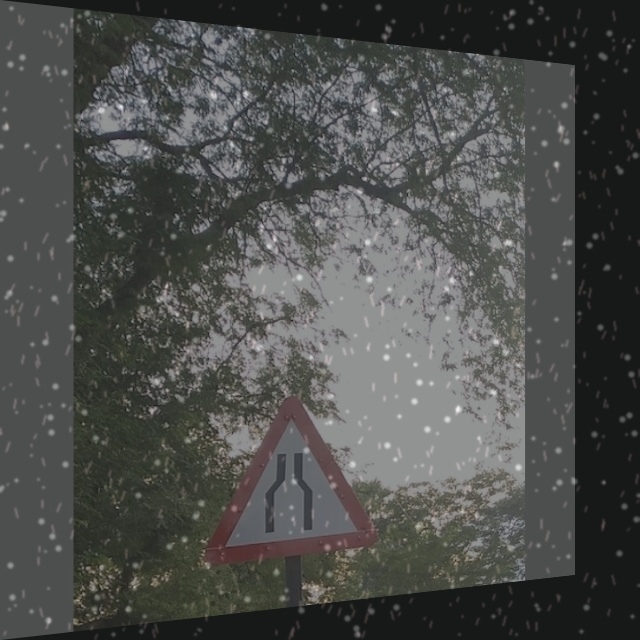Narrow_Road_Ahead: (206, 391, 379, 563)
